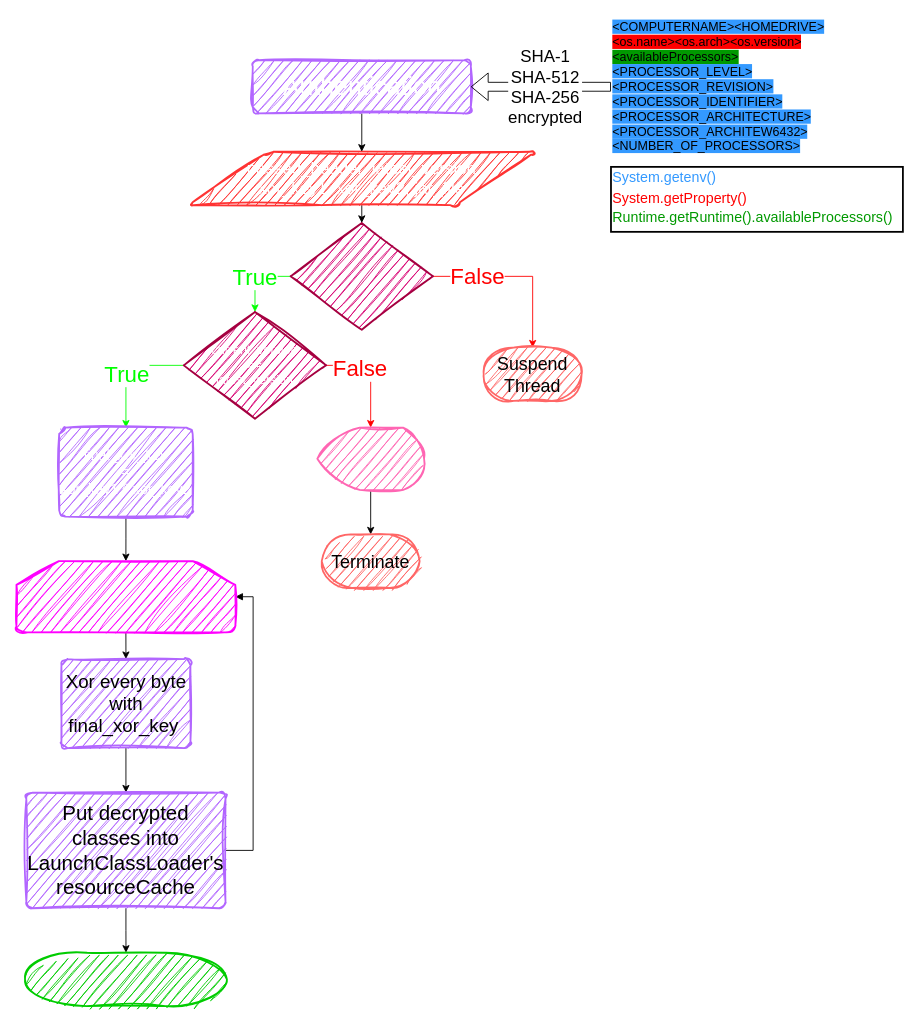
The diagram is 918 pixels wide and 1022 high, and some of its shapes have lost their labels. The shapes that lost their labels are listed below. From the top down, each one's centre as x and y in pixels, then its label:
pixel 361 276: passed_header == "[PASSED]"
pixel 370 458: Loader outdated!
pixel 125 596: Query every byte of the files in the jar which name ends with ".n***a"
pixel 125 979: Finish dynamic class loading process
